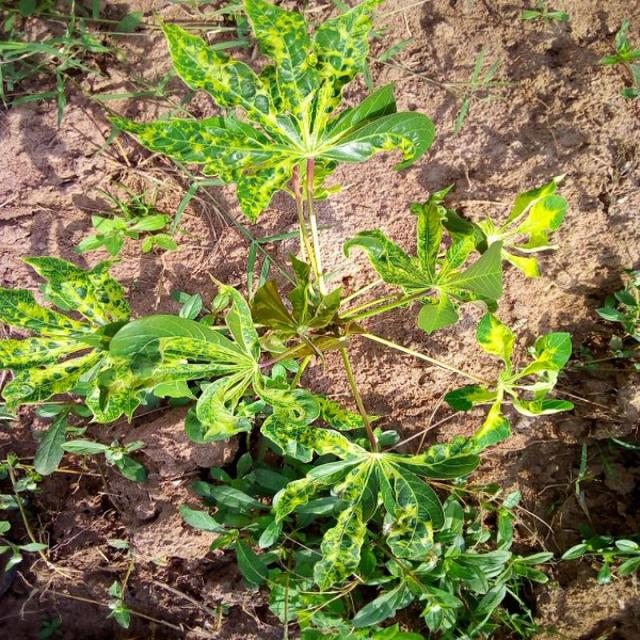Mosaico: (151, 28, 442, 180), (273, 416, 463, 612), (0, 209, 166, 417), (454, 315, 579, 456)
